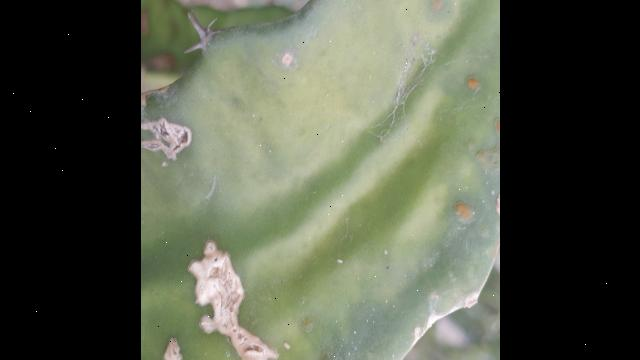stemcanker: (451, 198, 480, 227), (460, 70, 486, 100), (278, 46, 301, 71)
